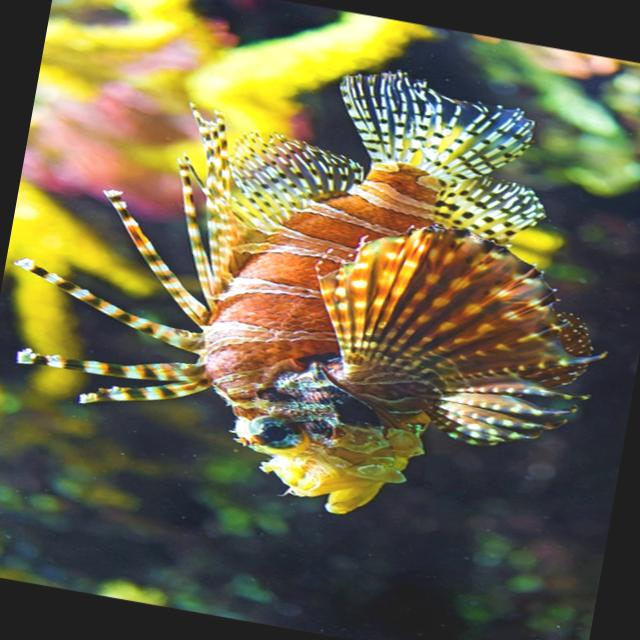Aslan Baligi: (0, 7, 640, 555)
